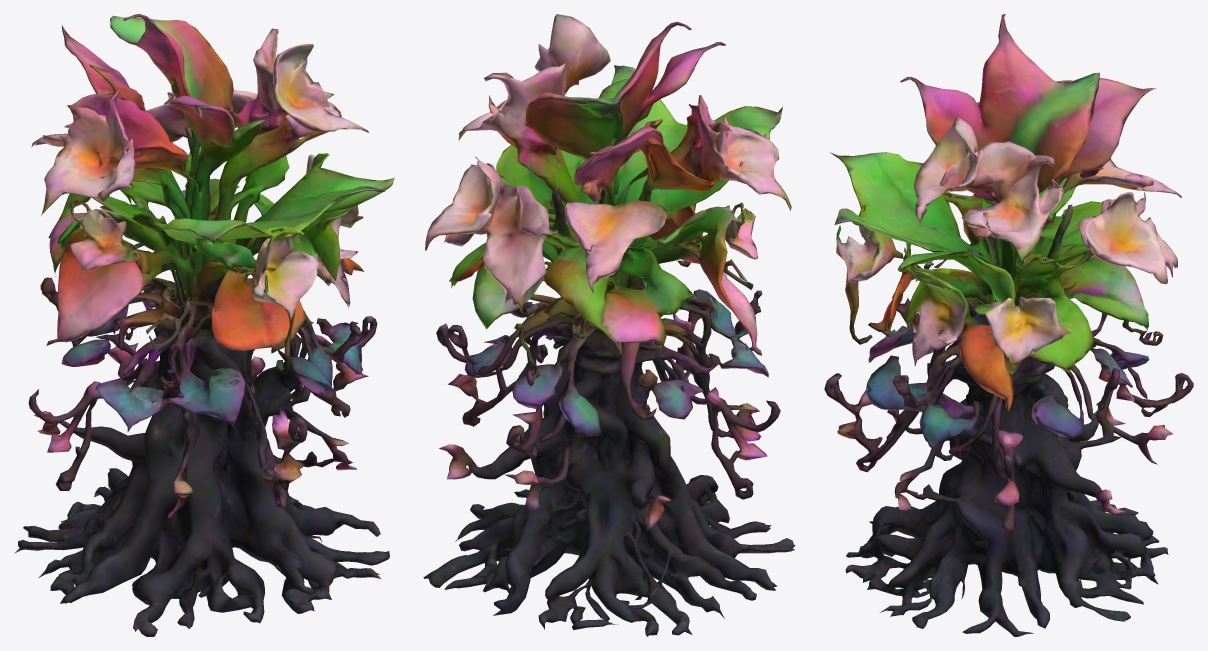
Rendered from plant2.glb.
The picture shows the model from 3 angles, left to right: view 1: azimuth 30°, elevation 25°; view 2: azimuth 150°, elevation 25°; view 3: azimuth 270°, elevation 25°; orthographic projection. The views are drawn at different scales.
Bounding box in the file's own units: 1.28 × 2 × 1.28.
1 material, 1 textured.
